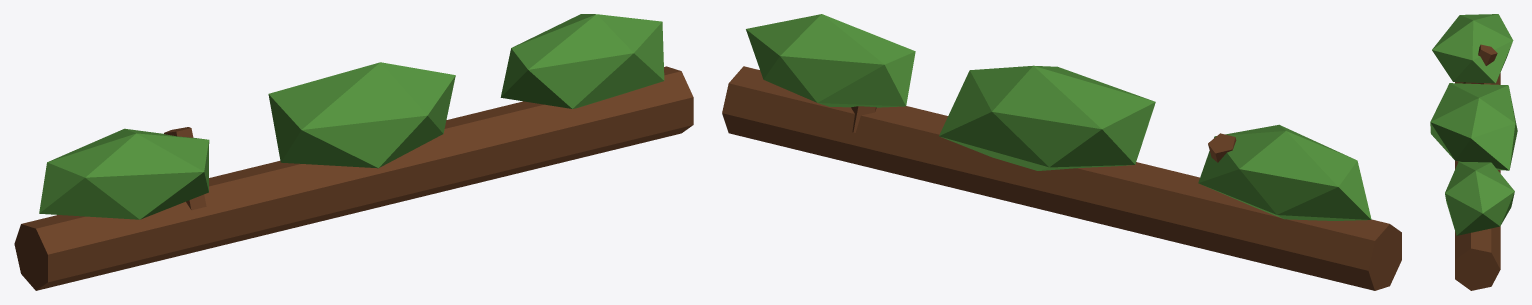
File: branch.glb
3 views of the same model, side by side, from view 1: azimuth 30°, elevation 25°; view 2: azimuth 150°, elevation 25°; view 3: azimuth 270°, elevation 25° (orthographic). The views are drawn at different scales.
Parts seen in each view (by area): view 1: Cylinder; view 2: Cylinder; view 3: Cylinder.
Part boxes in pixels (bbox=[...]): Cylinder: bbox=[14, 14, 693, 290]; Cylinder: bbox=[722, 14, 1401, 290]; Cylinder: bbox=[1430, 14, 1517, 290].
Bounding box in the file's own units: 1.1 × 0.2263 × 0.1891.
